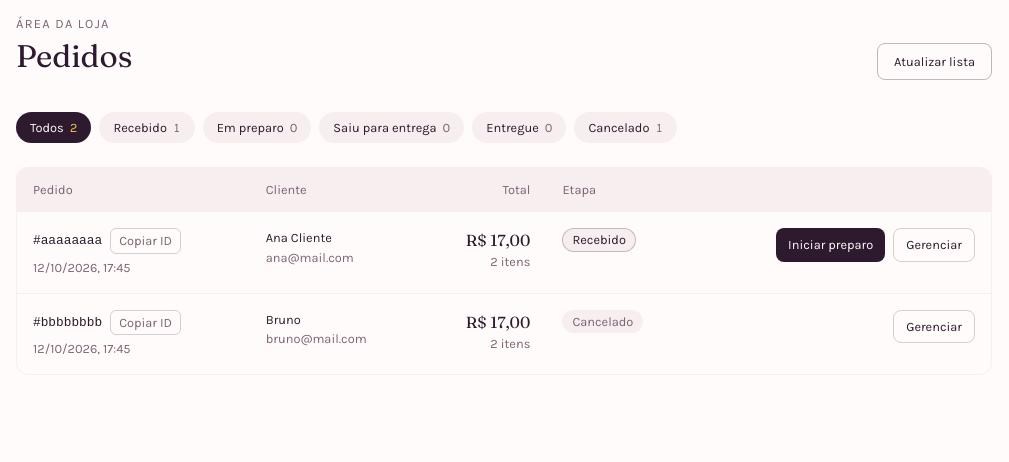
Test: Pedidos da loja › recusa do servidor (409) mostra o motivo e mantem a linha como estava
Click the button "Iniciar preparo" at (831, 245), box [776, 228, 885, 262]
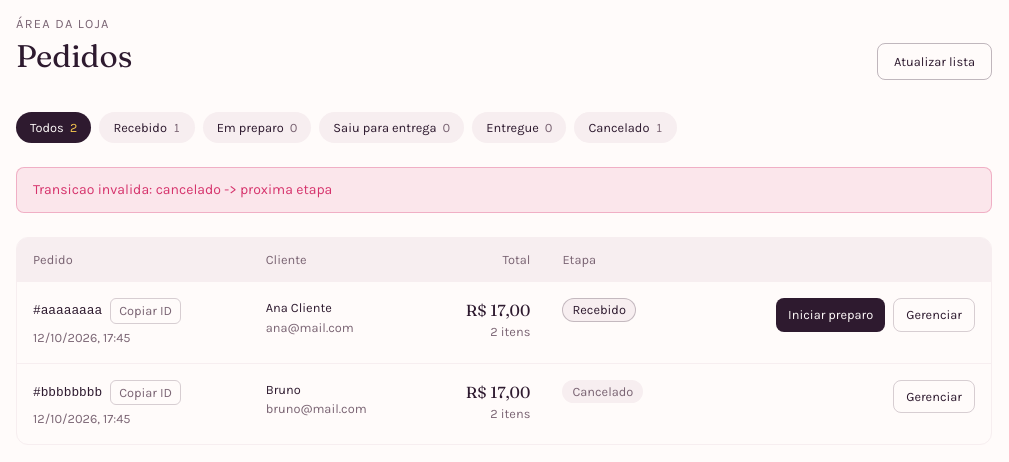
Expected: the button "Iniciar preparo" is shown, [776, 298, 885, 332]
Now the message shows "Transicao invalida", box [33, 181, 332, 198]
